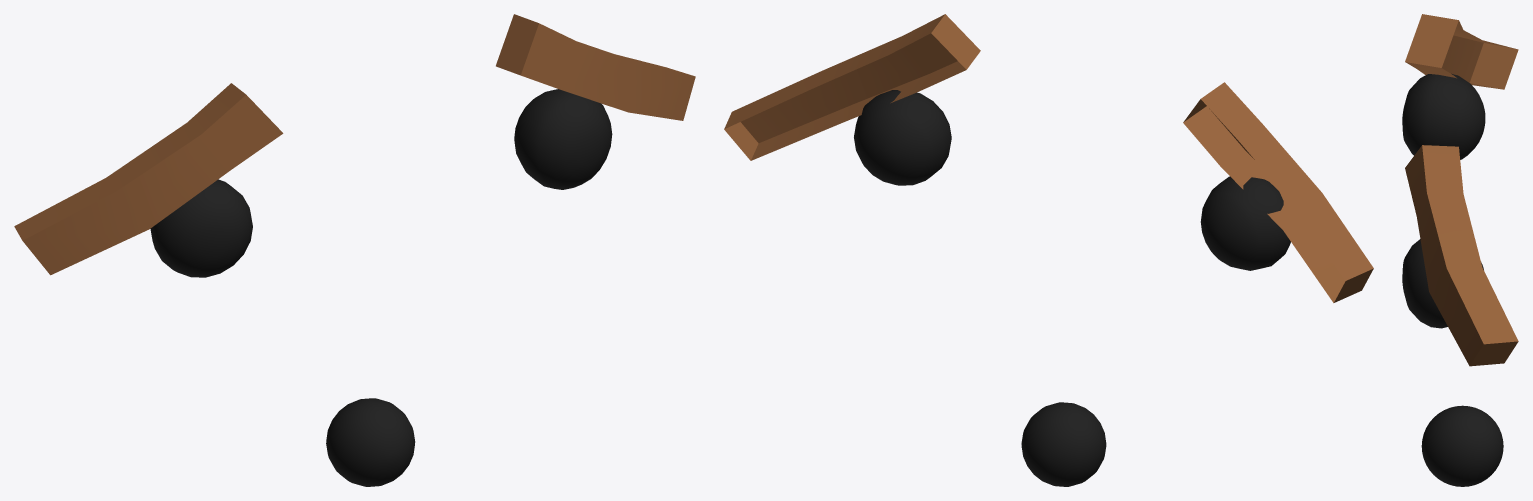
The model's file is BorisJohnsonFaceV1.fbx.
The picture shows the model from 3 angles, left to right: view 1: azimuth 30°, elevation 25°; view 2: azimuth 150°, elevation 25°; view 3: azimuth 270°, elevation 25°; orthographic projection. The views are drawn at different scales.
Parts seen in each view (by area): view 1: BorisJohnsonFaceV1; view 2: BorisJohnsonFaceV1; view 3: BorisJohnsonFaceV1.
Part boxes in pixels (x1,y1,x2,y2): BorisJohnsonFaceV1: [14, 14, 695, 486]; BorisJohnsonFaceV1: [724, 14, 1373, 486]; BorisJohnsonFaceV1: [1402, 14, 1518, 486].
Size of the model in its own units: 29.91 by 18.69 by 4.88.
